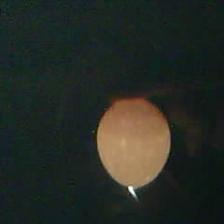infertile: (95, 94, 174, 191)
